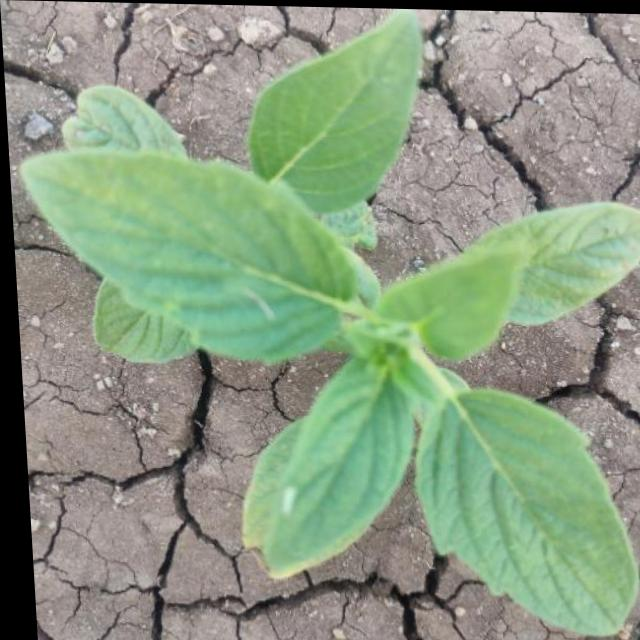crop: (16, 17, 640, 630)
